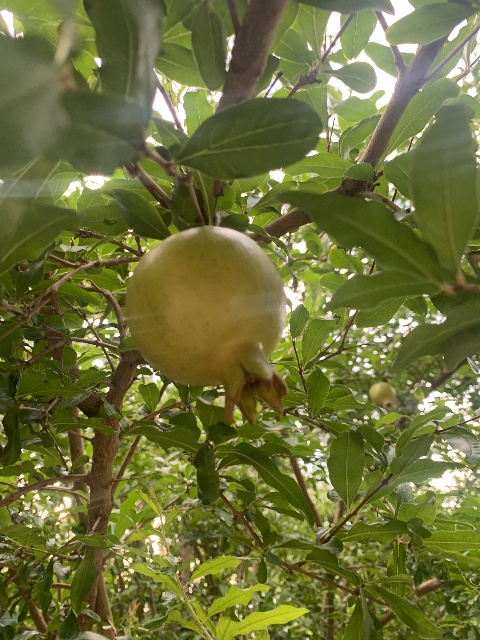mid-growth: (123, 224, 291, 427), (369, 382, 396, 409)
